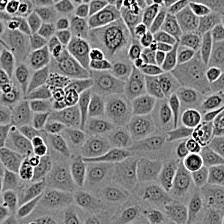cell: (70, 39, 89, 66), (193, 125, 213, 144), (104, 27, 122, 48), (24, 183, 42, 201), (162, 164, 174, 189), (143, 135, 162, 150), (175, 172, 189, 192), (186, 154, 202, 171), (59, 58, 76, 74), (170, 96, 179, 126), (109, 101, 125, 116), (155, 78, 171, 93), (183, 111, 200, 125), (205, 107, 224, 119), (172, 204, 187, 219), (64, 89, 78, 105), (31, 49, 45, 65), (212, 188, 224, 206), (201, 33, 211, 54), (53, 169, 68, 183), (187, 65, 202, 79), (165, 18, 178, 34), (33, 70, 47, 84), (61, 108, 75, 122), (45, 192, 61, 204), (205, 97, 222, 108), (213, 45, 224, 62), (211, 168, 224, 182), (89, 138, 102, 152), (114, 131, 127, 145), (137, 98, 151, 111), (125, 10, 138, 24), (181, 12, 194, 26), (16, 66, 27, 82), (97, 11, 113, 22), (170, 0, 186, 11), (56, 0, 72, 11), (133, 120, 146, 133), (99, 76, 112, 89), (130, 81, 143, 94), (185, 34, 198, 47), (10, 34, 23, 47), (34, 164, 46, 178), (53, 136, 65, 150), (36, 114, 48, 128), (128, 44, 140, 58), (181, 91, 196, 102), (4, 155, 16, 168), (3, 91, 16, 103), (207, 68, 219, 81), (17, 104, 29, 117), (144, 7, 156, 20), (140, 33, 152, 46), (77, 194, 91, 205), (73, 163, 84, 177), (90, 50, 104, 61), (164, 52, 175, 66), (90, 121, 109, 129), (163, 104, 171, 123), (191, 197, 200, 213), (113, 62, 125, 74), (58, 31, 70, 43), (143, 164, 155, 176), (124, 209, 137, 220), (90, 100, 101, 113), (150, 83, 161, 96), (156, 31, 169, 42), (108, 150, 122, 160), (177, 143, 187, 157), (73, 17, 83, 31), (90, 60, 107, 68), (91, 168, 103, 179), (1, 52, 12, 64), (40, 23, 51, 35), (106, 189, 118, 200), (144, 49, 155, 61), (201, 17, 214, 27), (47, 124, 61, 133), (29, 16, 38, 30), (150, 211, 161, 222), (5, 193, 16, 204), (72, 132, 83, 143), (5, 172, 15, 184), (205, 155, 219, 163), (179, 52, 193, 60), (15, 137, 25, 148), (40, 9, 51, 19), (80, 93, 88, 106), (0, 70, 8, 83), (19, 205, 29, 215), (33, 36, 43, 46), (214, 27, 224, 37), (77, 6, 88, 15), (90, 2, 102, 10), (195, 173, 204, 183), (31, 100, 40, 110), (58, 19, 68, 28), (22, 127, 31, 136), (131, 71, 140, 80), (0, 208, 6, 217), (151, 189, 158, 196), (144, 192, 150, 198)
